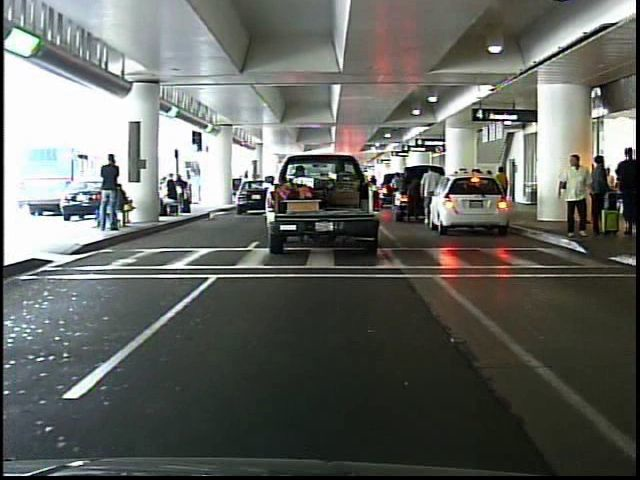person: (554, 143, 593, 240), (612, 147, 637, 235), (587, 152, 611, 241), (102, 150, 126, 233), (418, 161, 445, 231), (493, 162, 514, 217), (190, 167, 204, 210)
